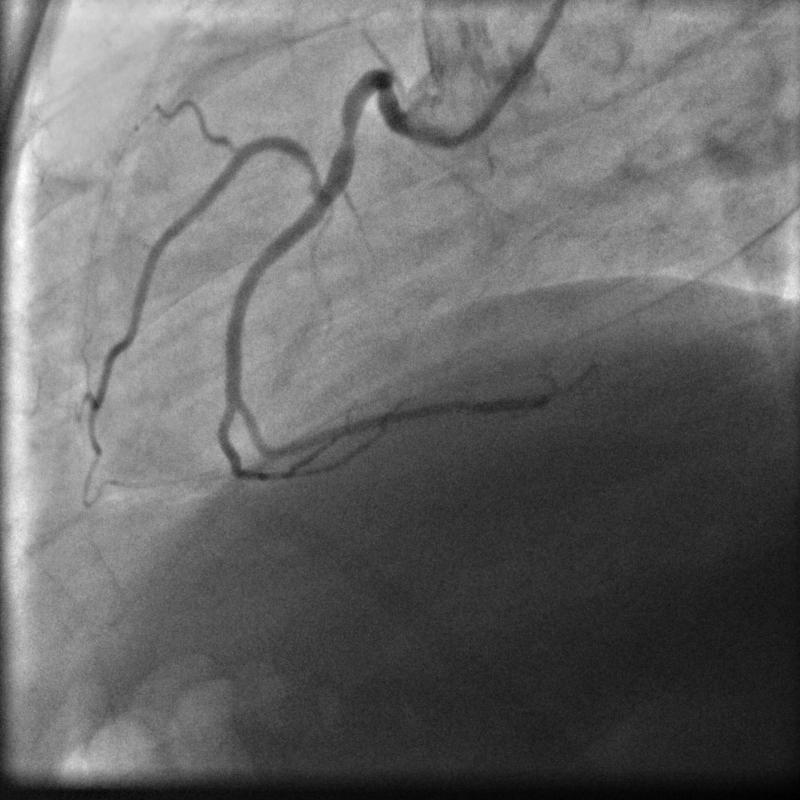Stenosis: (335, 116, 362, 150)
